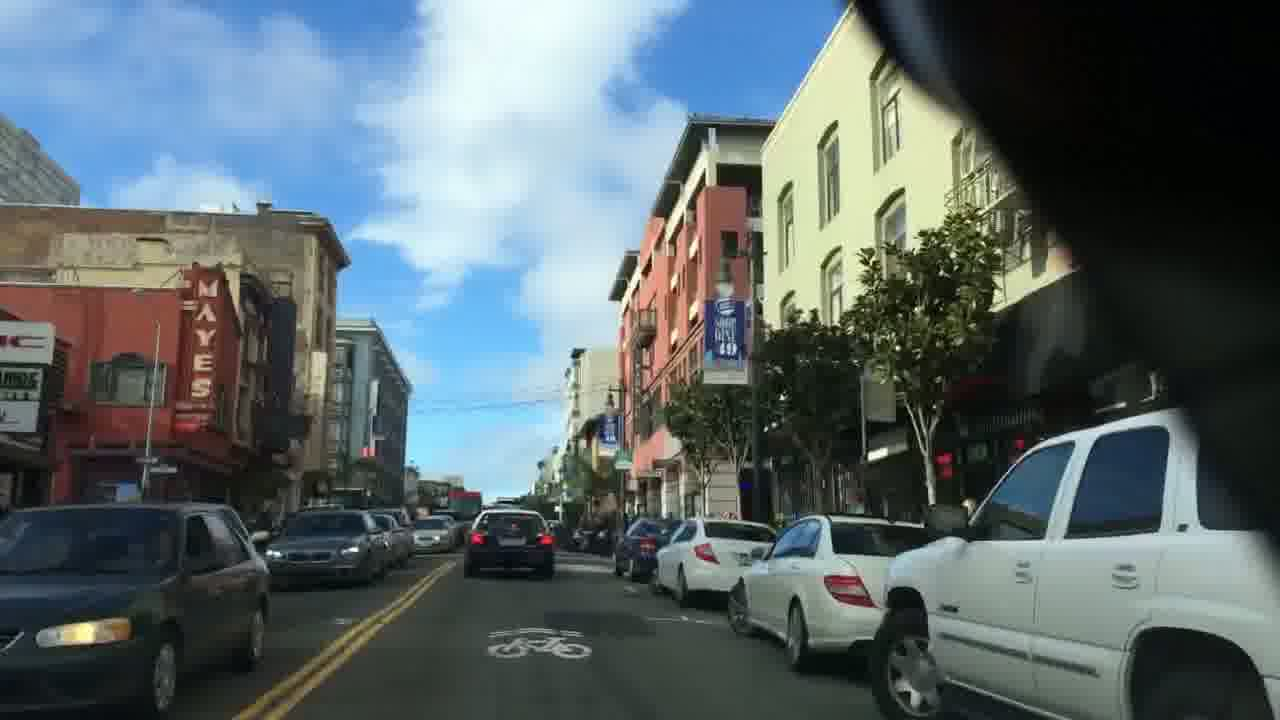car: (868, 406, 1280, 720), (0, 501, 274, 720), (726, 513, 928, 670), (647, 515, 778, 608), (262, 508, 390, 588), (463, 506, 553, 578), (615, 516, 681, 579), (410, 514, 457, 552)
